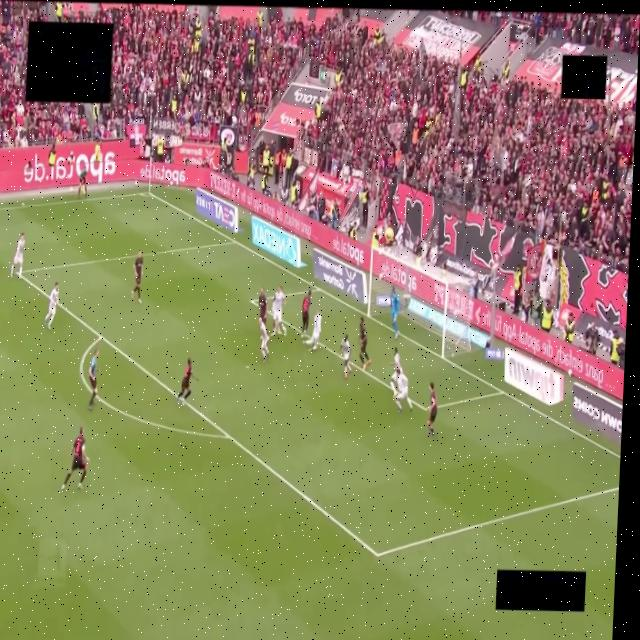player: (61, 426, 88, 490), (176, 358, 196, 403), (271, 286, 286, 335), (394, 370, 411, 412), (131, 250, 143, 303), (10, 233, 24, 278), (44, 283, 58, 328), (358, 317, 370, 369), (389, 347, 402, 392), (305, 311, 320, 350), (390, 288, 400, 339), (340, 335, 351, 379), (427, 382, 436, 435), (258, 317, 268, 361), (301, 290, 310, 337), (258, 287, 266, 325)
referee: (88, 348, 98, 409)
